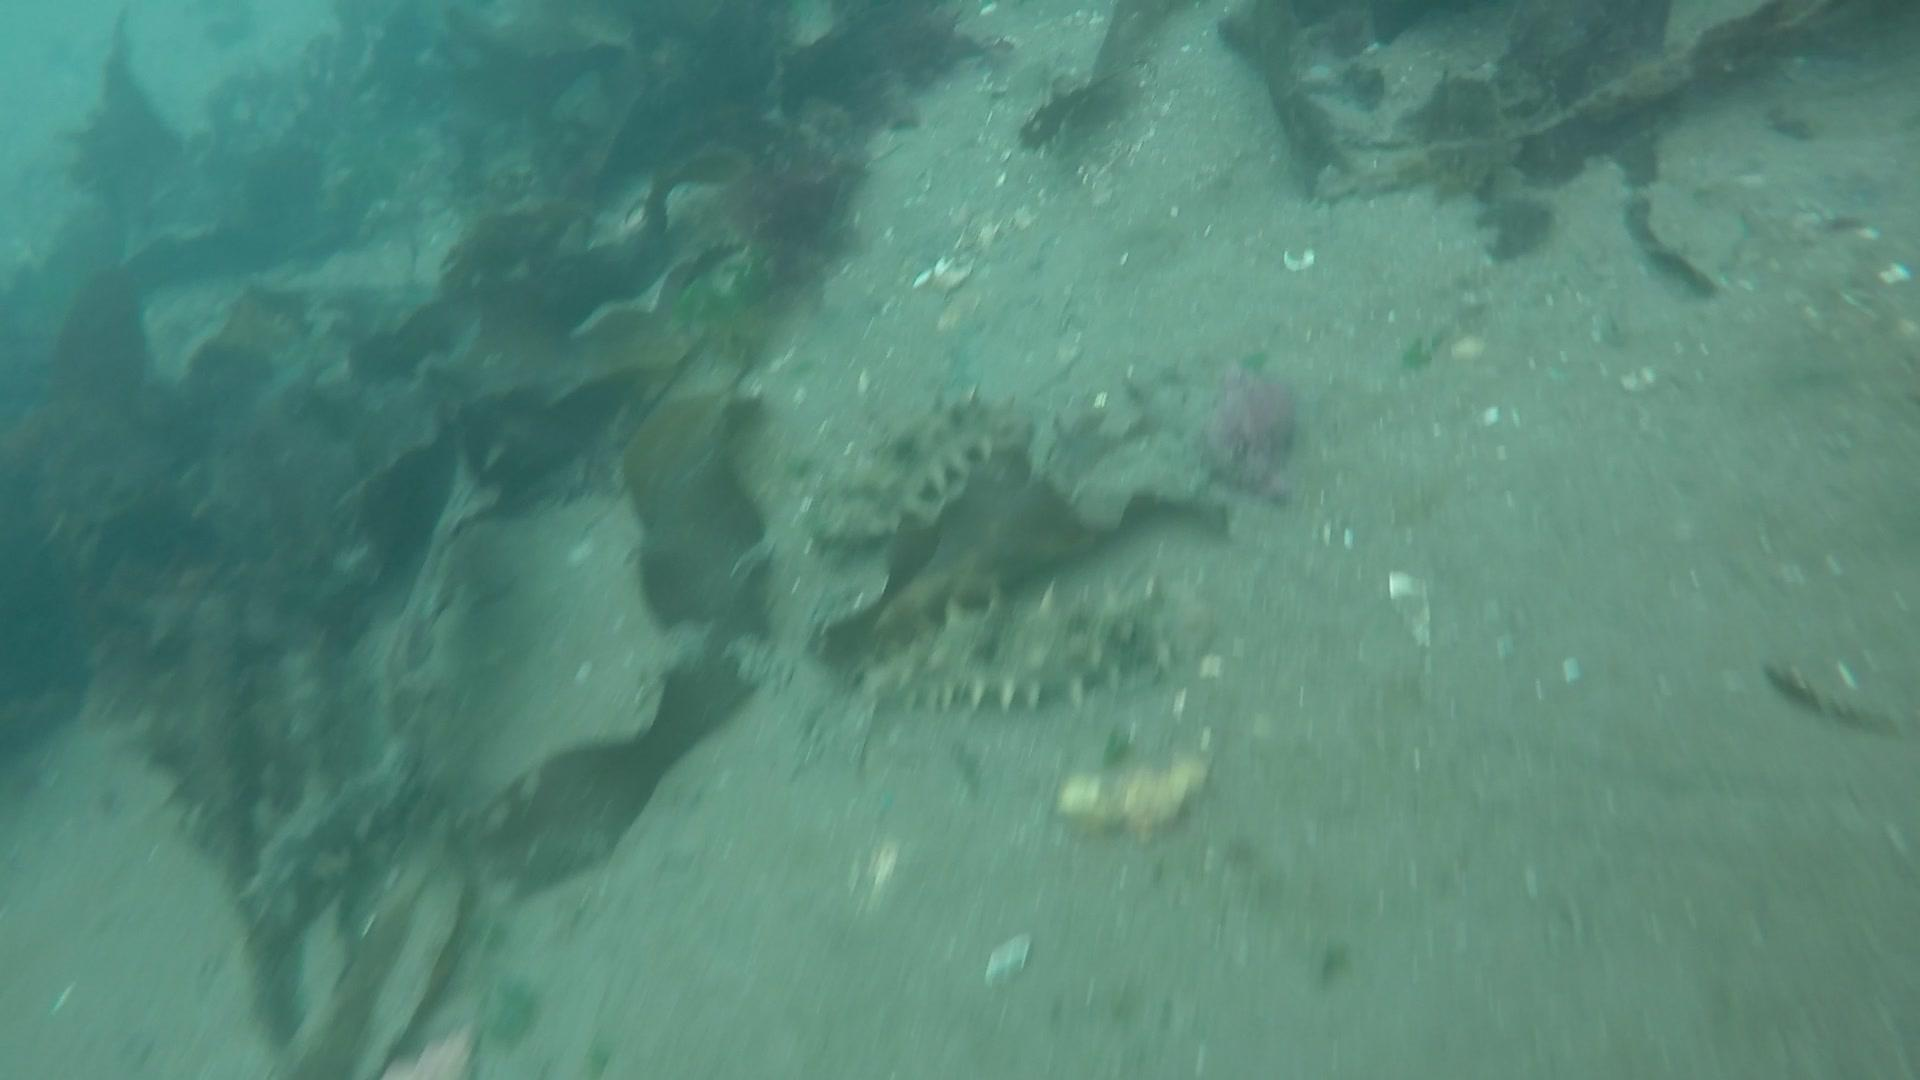holothurian: (856, 570, 1184, 717), (812, 382, 1044, 543), (251, 757, 418, 936)
